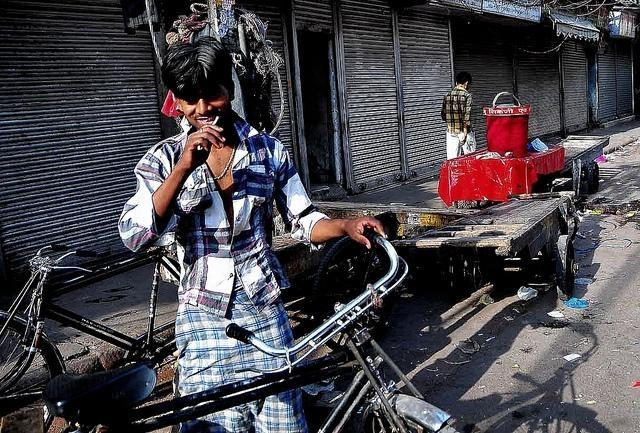bicycle: (41, 226, 469, 427), (0, 230, 178, 386)
